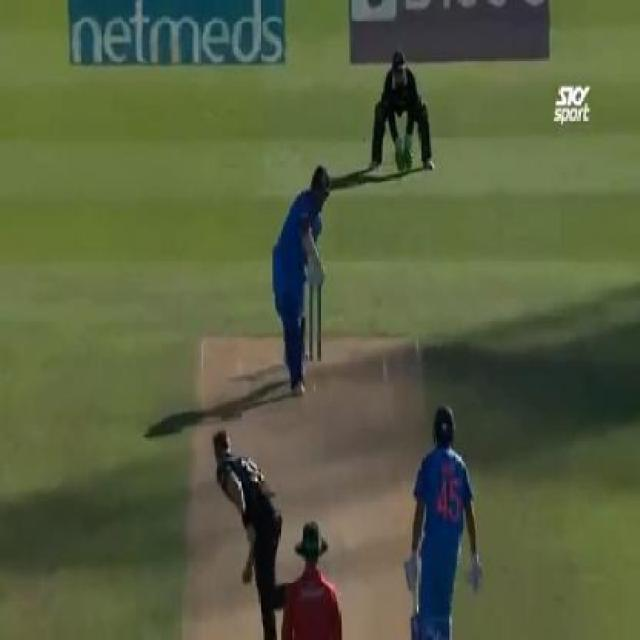Cricket ball: (308, 381, 318, 395)
